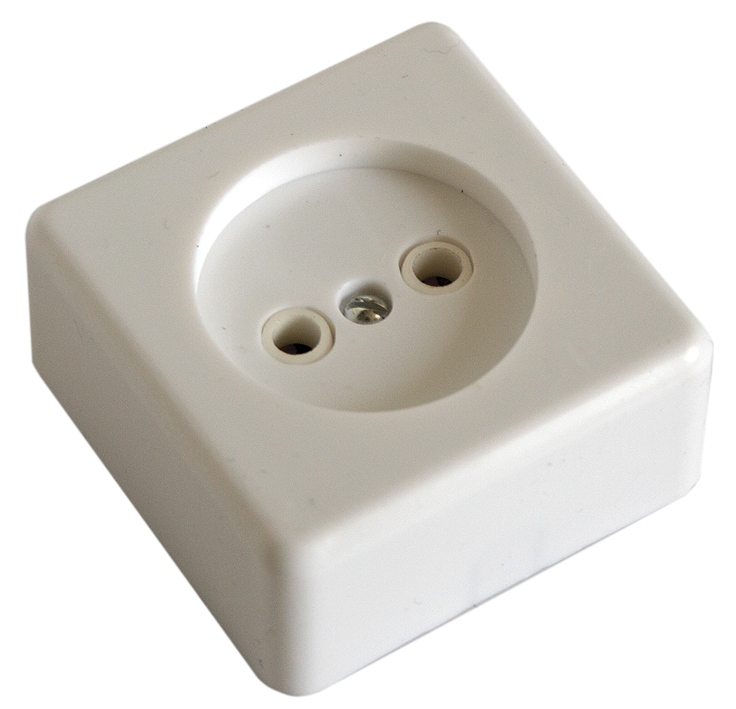raccoon: (196, 131, 544, 422)
